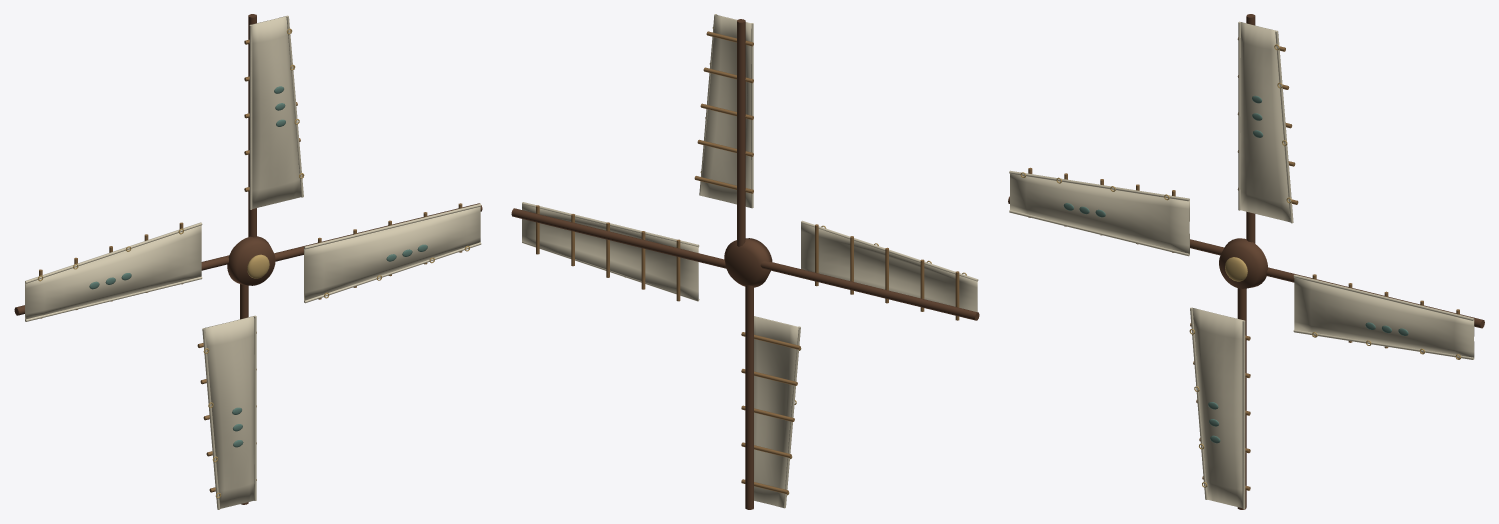
File: windmill_sails_atelier.glb
The picture shows the model from 3 angles, left to right: view 1: azimuth 30°, elevation 25°; view 2: azimuth 150°, elevation 25°; view 3: azimuth 330°, elevation 25°; orthographic projection.
Parts seen in each view (by area): view 1: windmill_sails_atelier__TaggedPainted_MillSails_Matte, windmill_sails_atelier__Painted_MillSails_Metal; view 2: windmill_sails_atelier__TaggedPainted_MillSails_Matte; view 3: windmill_sails_atelier__TaggedPainted_MillSails_Matte, windmill_sails_atelier__Painted_MillSails_Metal.
Boxes of the visible parts, box(x1,y1,x2,y2) form: windmill_sails_atelier__TaggedPainted_MillSails_Matte: box(14, 14, 482, 509); windmill_sails_atelier__Painted_MillSails_Metal: box(38, 28, 469, 498); windmill_sails_atelier__TaggedPainted_MillSails_Matte: box(511, 14, 979, 509); windmill_sails_atelier__TaggedPainted_MillSails_Matte: box(1008, 14, 1484, 509); windmill_sails_atelier__Painted_MillSails_Metal: box(1020, 44, 1460, 487).
Size of the model in its own units: 4.32 by 4.32 by 0.24.
